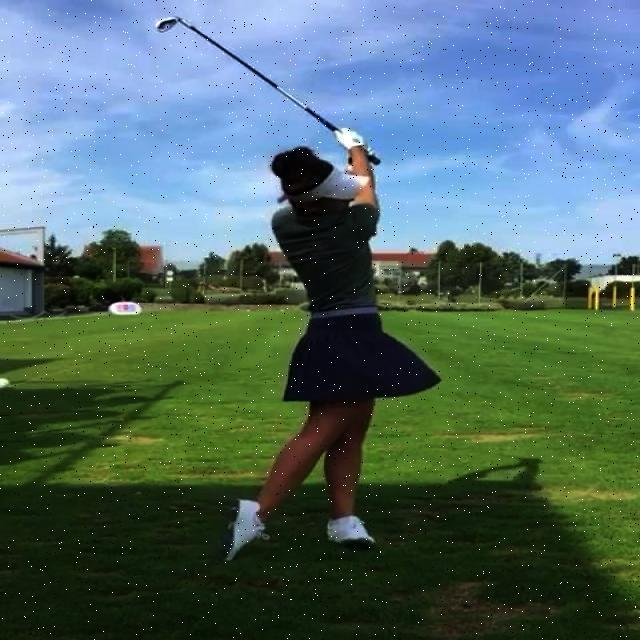ClubHead: (155, 13, 182, 33)
